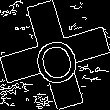O_N: (27, 24, 83, 86)
